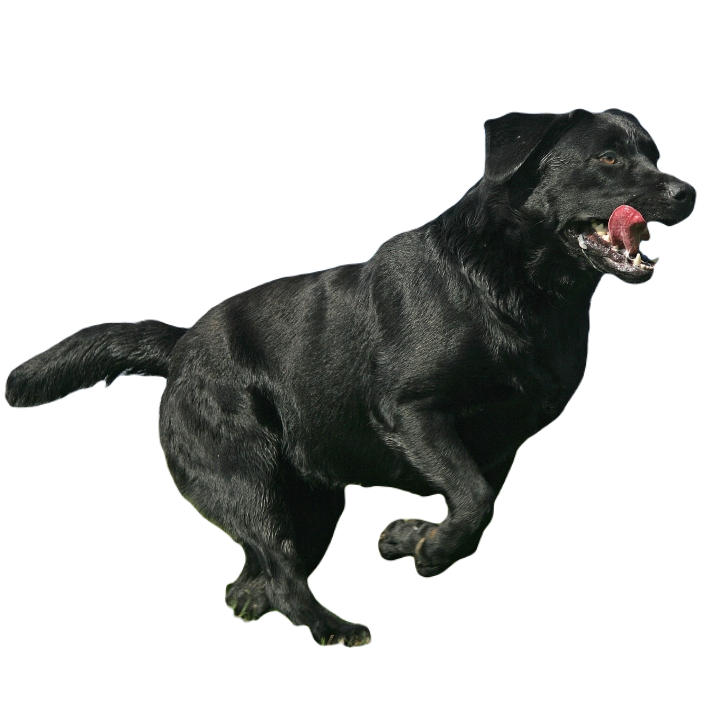Dog: (3, 105, 696, 650)
